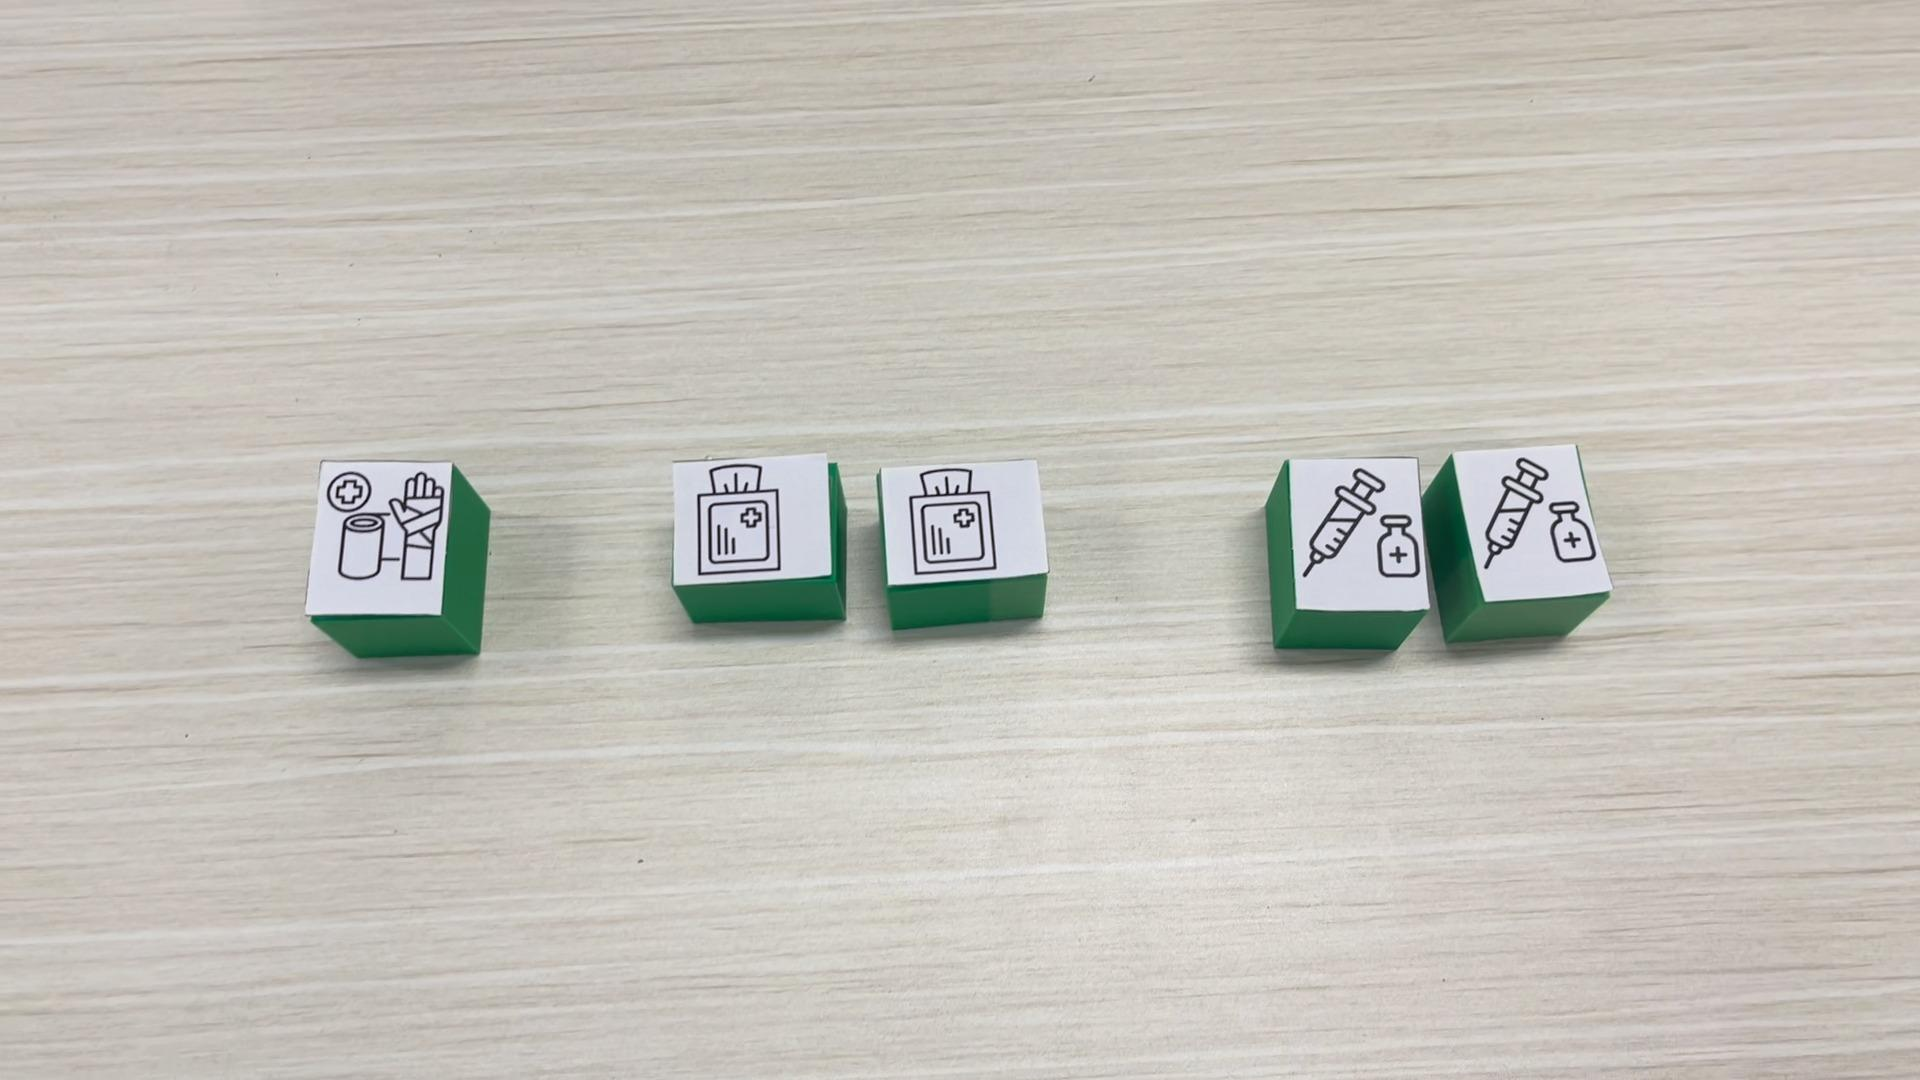Bandages: (307, 459, 487, 661)
Gauze: (877, 456, 1048, 630), (670, 455, 844, 626)
antiseptic cream: (1422, 439, 1614, 645), (1263, 456, 1431, 651)
